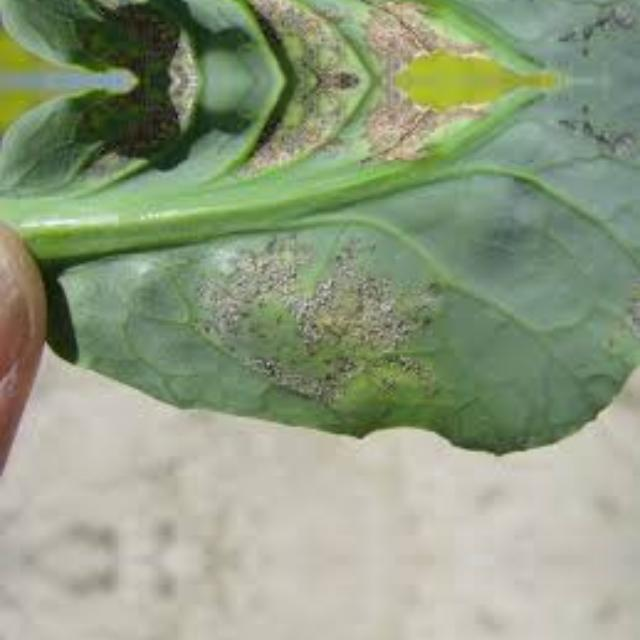Lettuce - Anthracnose: (0, 80, 640, 456), (0, 0, 640, 80)
